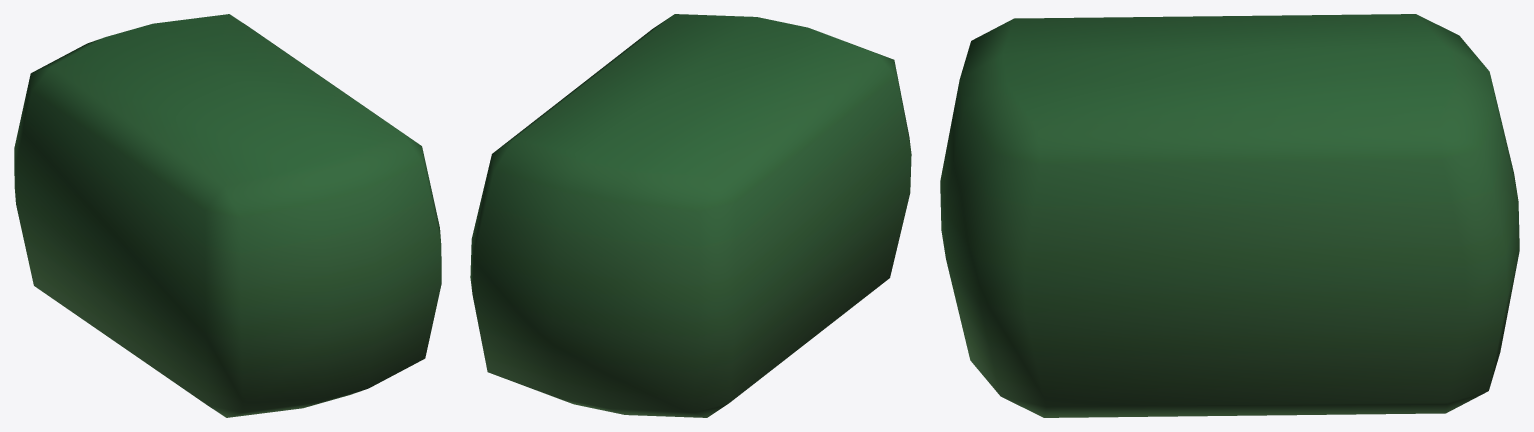
The model's file is Bush_1_4.obj.
3 renders of one model, left to right at view 1: azimuth 30°, elevation 25°; view 2: azimuth 150°, elevation 25°; view 3: azimuth 270°, elevation 25°, orthographic. The views are drawn at different scales.
Parts seen in each view (by area): view 1: Bush_1_4; view 2: Bush_1_4; view 3: Bush_1_4.
Part boxes in pixels (bbox=[...]): Bush_1_4: bbox=[14, 14, 441, 417]; Bush_1_4: bbox=[470, 14, 911, 417]; Bush_1_4: bbox=[940, 14, 1519, 417].
Bounding box in the file's own units: 0.799 × 0.728 × 1.29.
